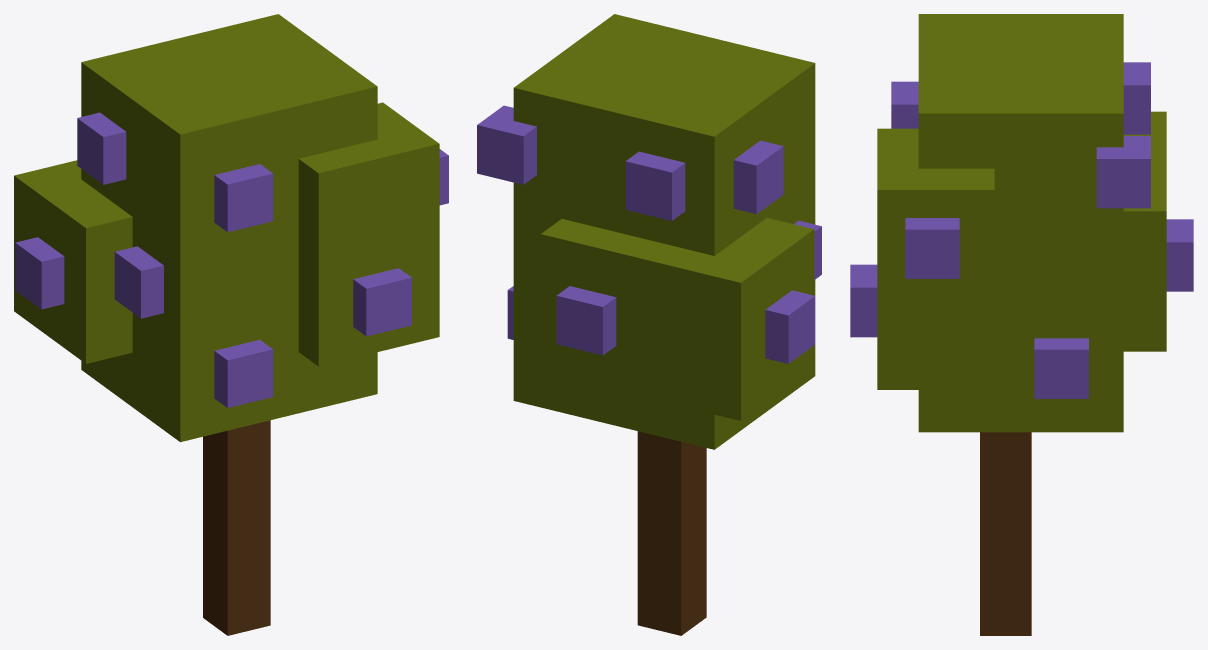
The model's file is FarmFruitTreeViolet_02.fbx.
3 views of the same model, side by side, from view 1: azimuth 30°, elevation 25°; view 2: azimuth 150°, elevation 25°; view 3: azimuth 270°, elevation 25° (orthographic). The views are drawn at different scales.
Parts seen in each view (by area): view 1: FarmFruitTreeViolet_02; view 2: FarmFruitTreeViolet_02; view 3: FarmFruitTreeViolet_02.
Part boxes in pixels (box(x1,y1,x2,y2)): FarmFruitTreeViolet_02: box(14, 14, 448, 635); FarmFruitTreeViolet_02: box(477, 14, 821, 635); FarmFruitTreeViolet_02: box(850, 14, 1193, 635).
Bounding box in the file's own units: 0.4025 × 0.6286 × 0.3487.
